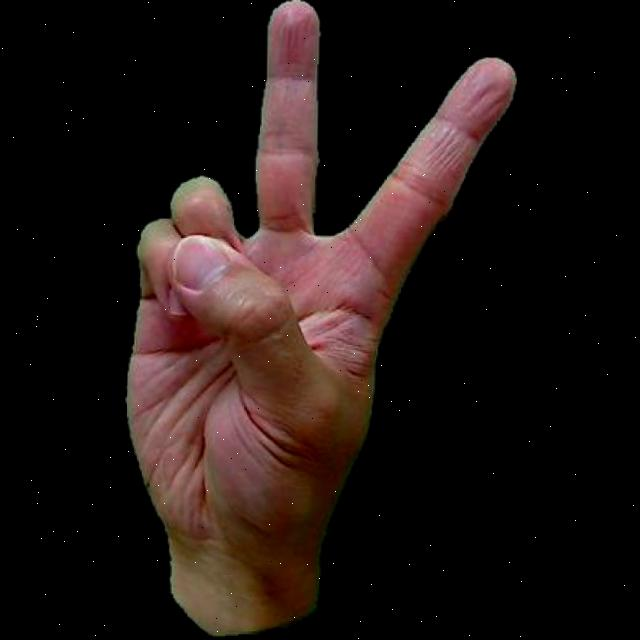v: (95, 0, 516, 640)
